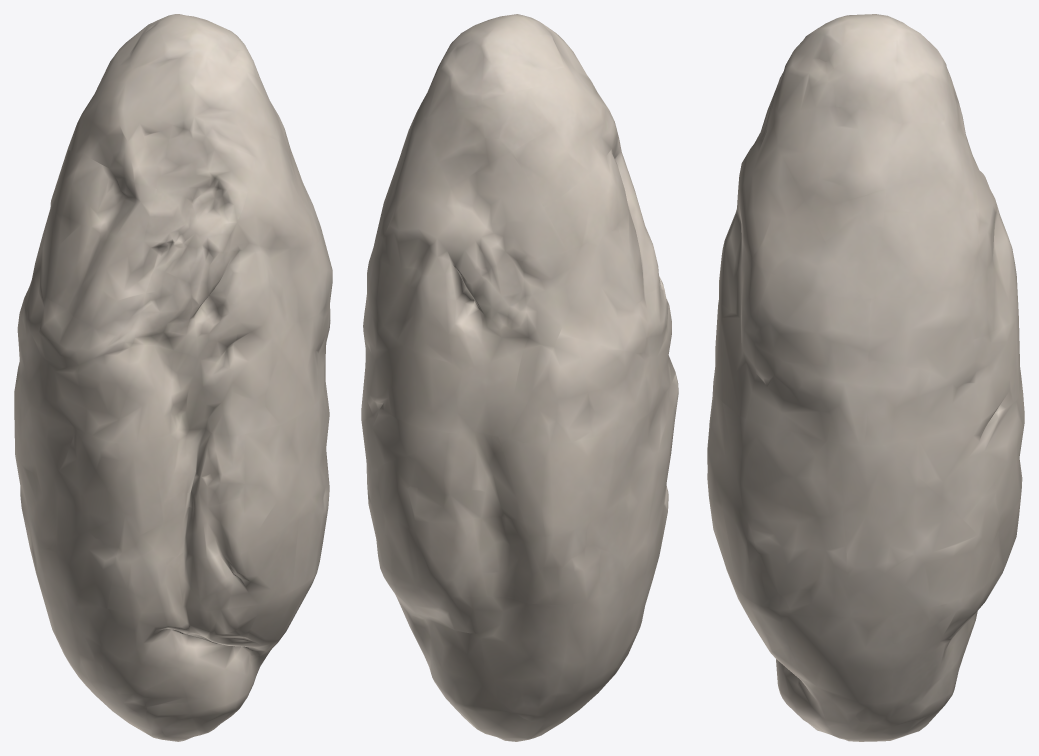
Rendered from rice_grain_v2.glb.
The picture shows the model from 3 angles, left to right: view 1: azimuth 30°, elevation 25°; view 2: azimuth 150°, elevation 25°; view 3: azimuth 270°, elevation 25°; orthographic projection. The views are drawn at different scales.
Size of the model in its own units: 0.768 by 1.9 by 0.752.
1 material, 1 textured.
